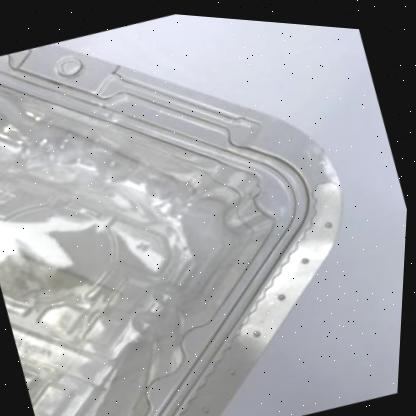Plastic: (0, 43, 344, 416)
